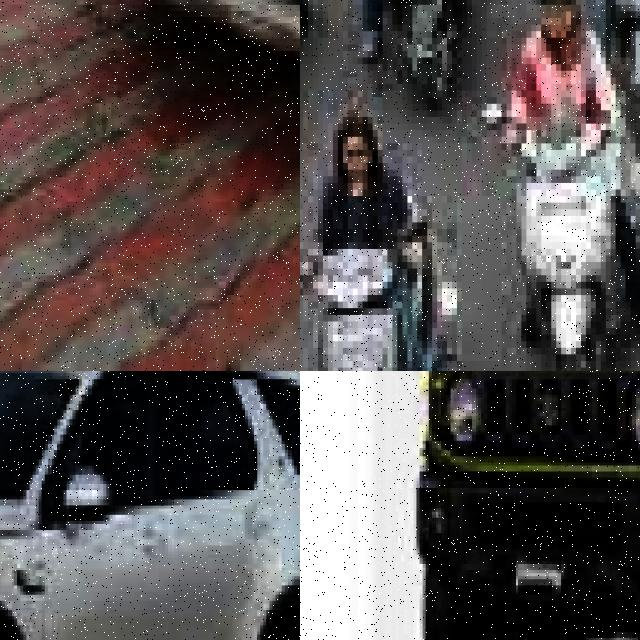bike: (496, 97, 640, 371), (300, 242, 451, 371), (362, 0, 486, 110), (586, 0, 640, 123)
car: (0, 371, 300, 640), (361, 371, 640, 640), (0, 0, 300, 143)
